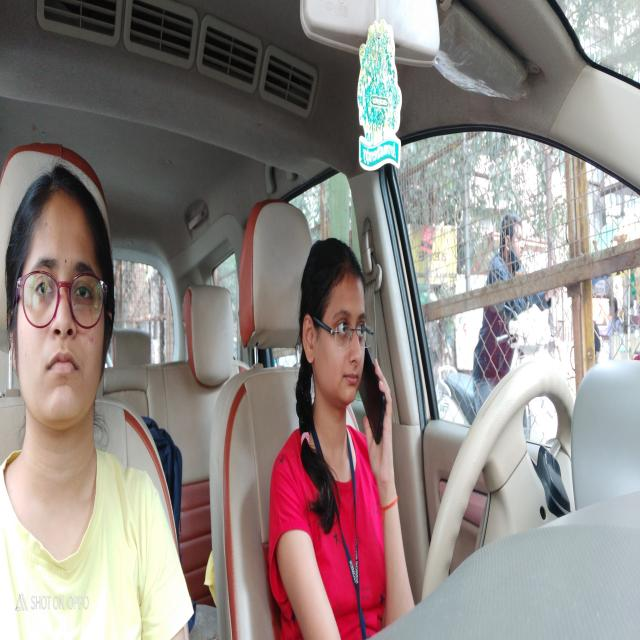mobile: (360, 346, 390, 452)
person: (4, 154, 118, 452), (297, 234, 368, 447)
